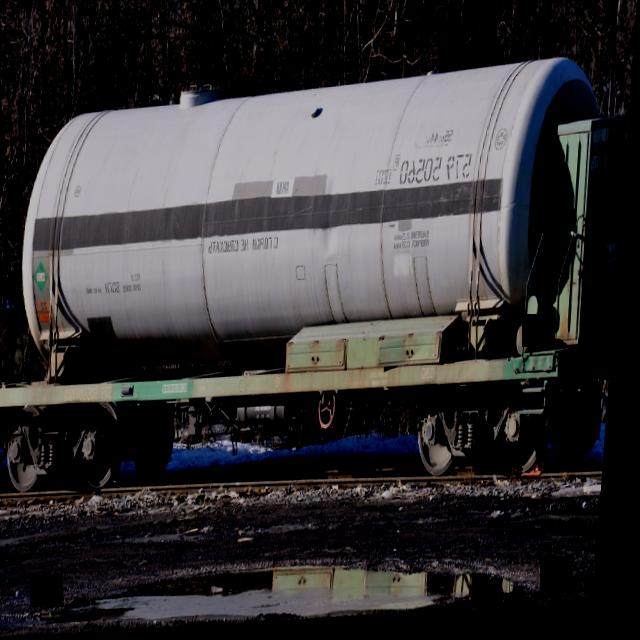tank: (0, 23, 637, 521), (0, 104, 14, 503)
